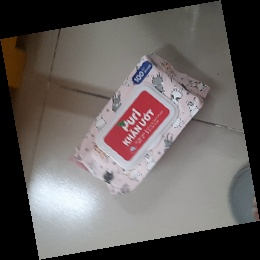Puri hong: (69, 52, 212, 196)
